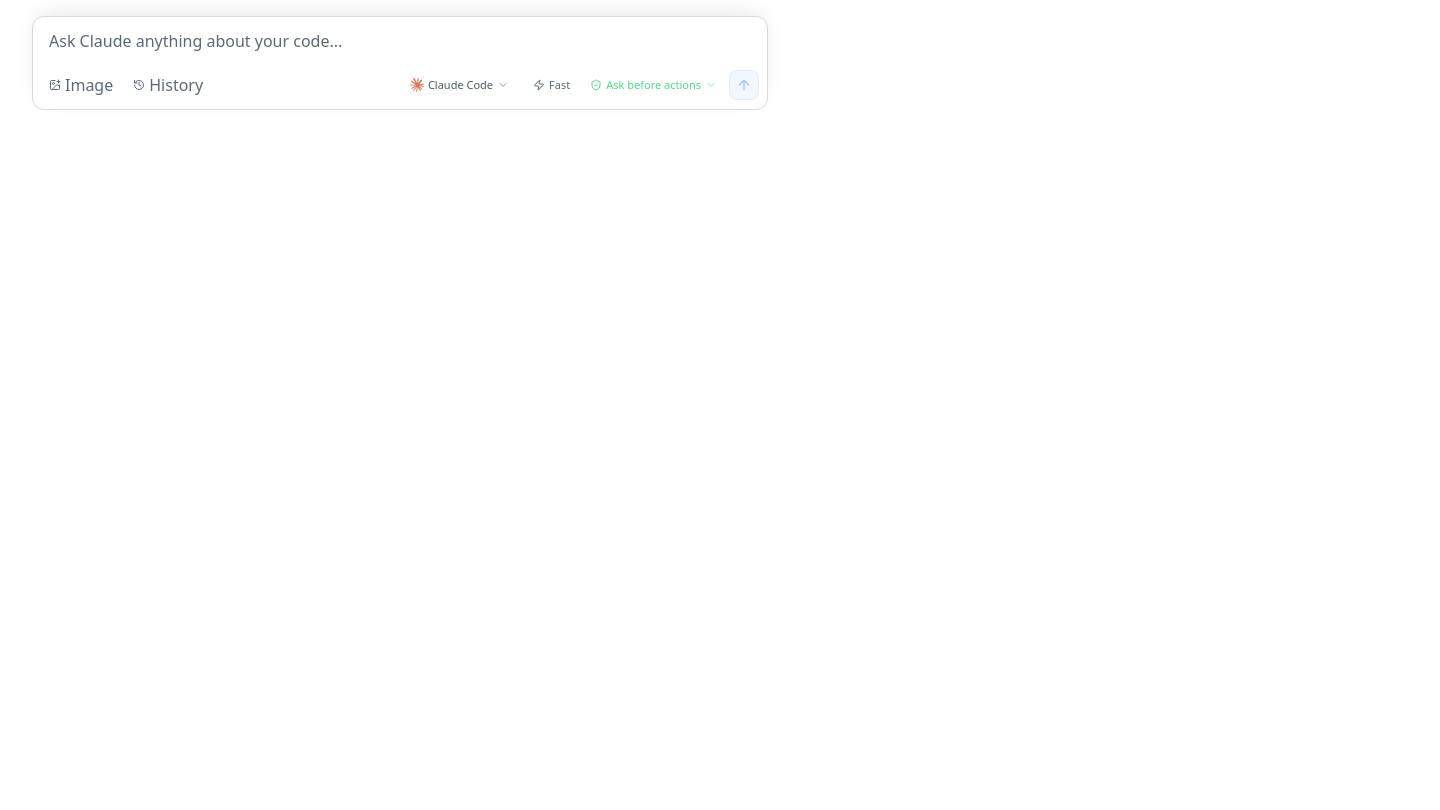
Test: PromptInput browser › opens command picker and inserts a slash command
Type "/" into the field. click: (400, 41)
box: [33,17,767,65]
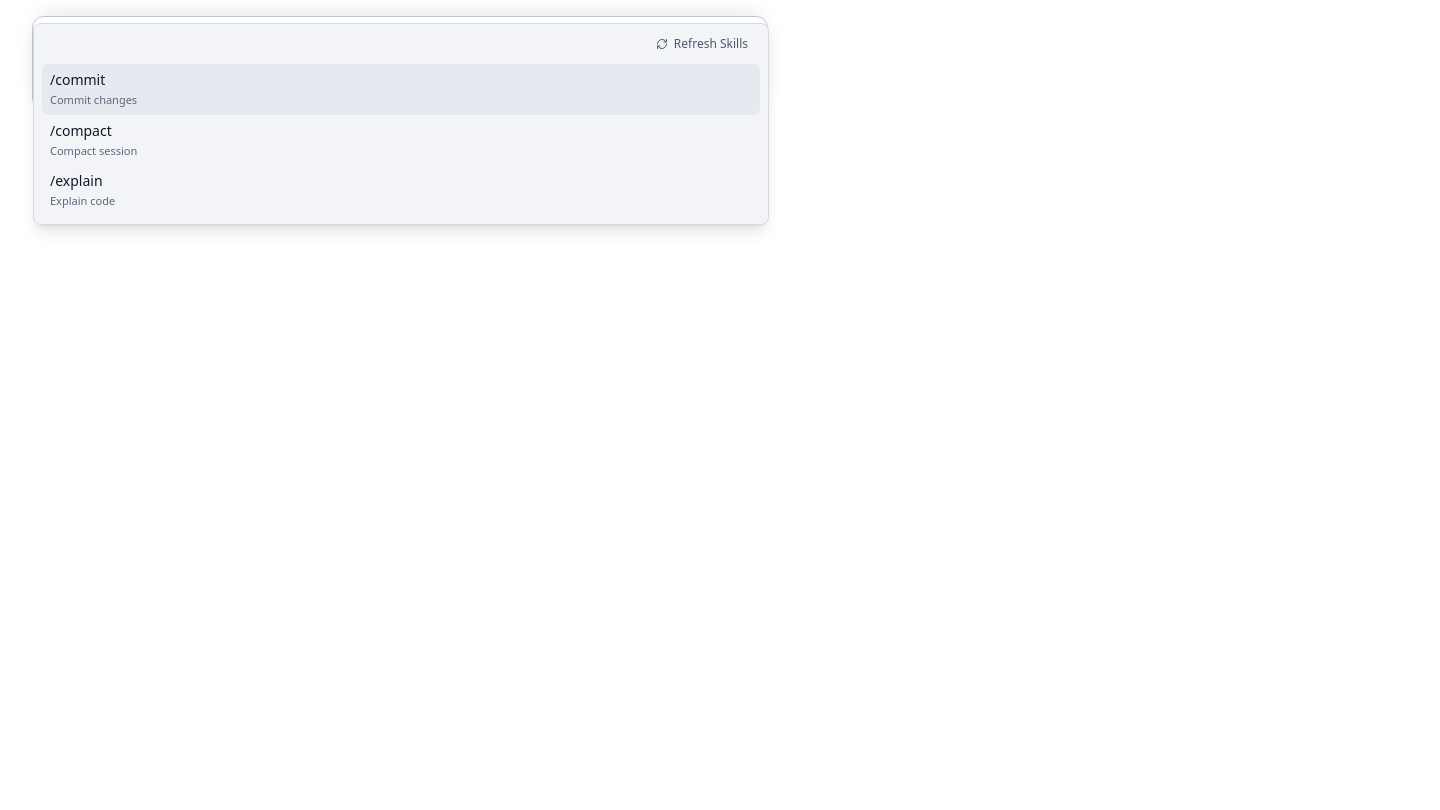
Expected: the text "/commit" is shown
Click the text "/commit". click: (78, 80)
box: [50,70,105,90]
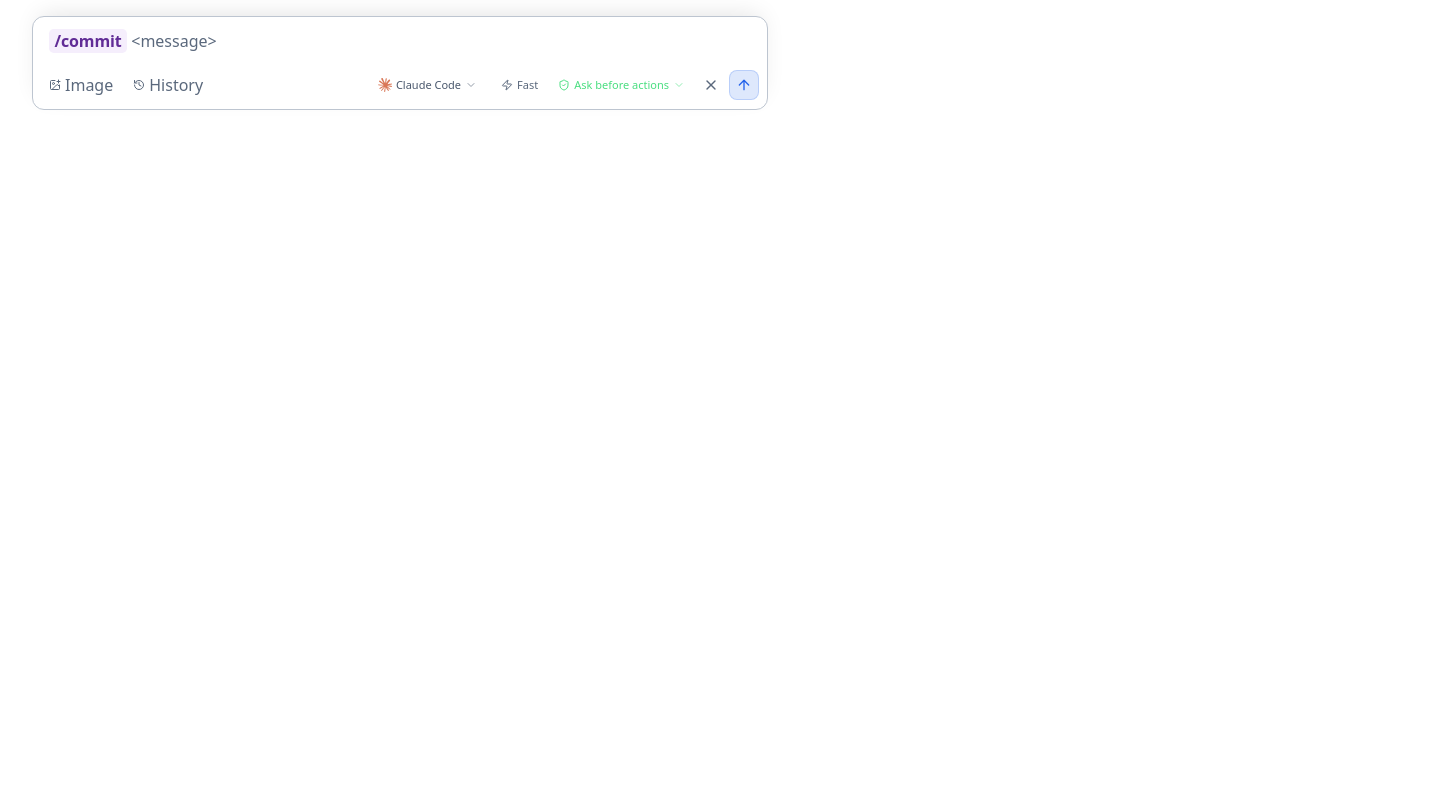
Expected: the text "/commit" is shown, [49,29,127,53]
Expected: the text "<message>" is shown, [131,30,217,52]
